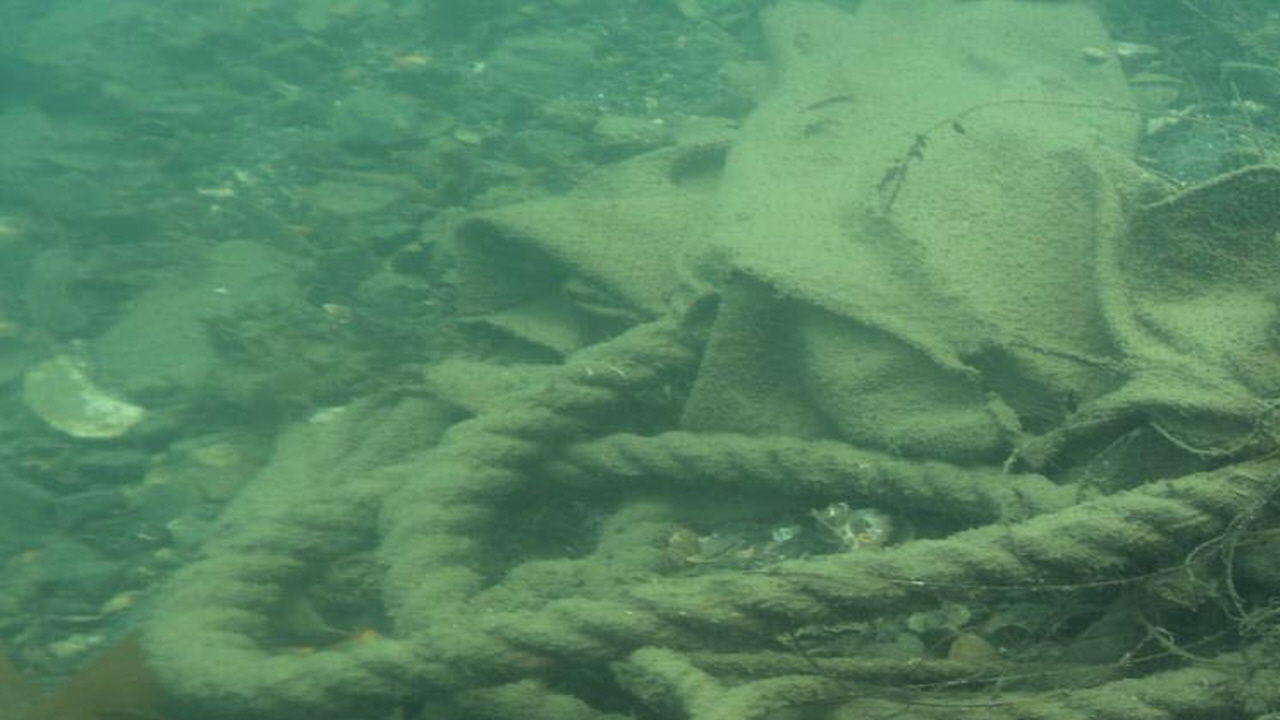bundle of ropes: (138, 316, 1280, 720)
